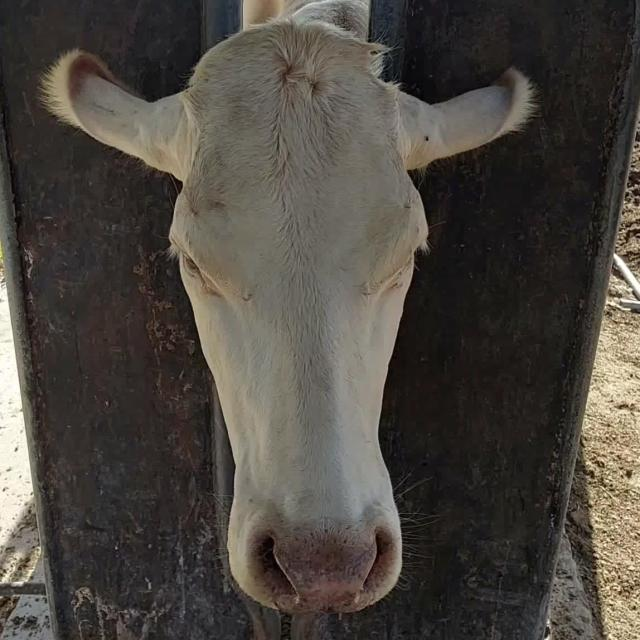cowFace: (168, 18, 428, 613)
